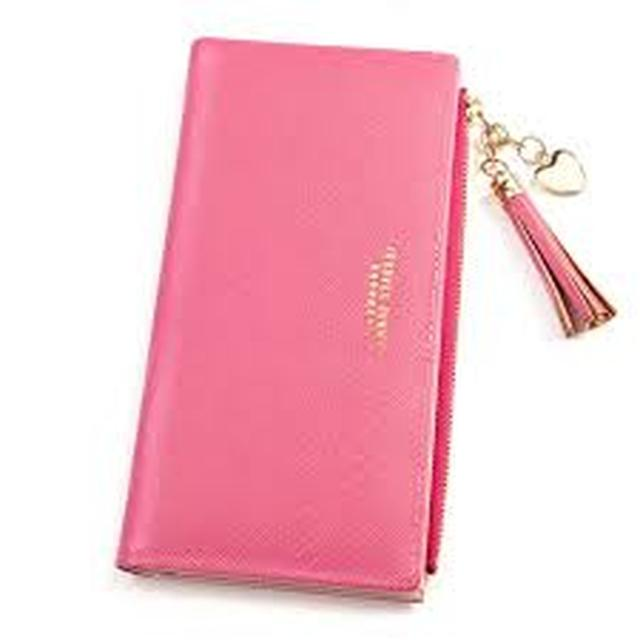wallet: (107, 44, 497, 596)
